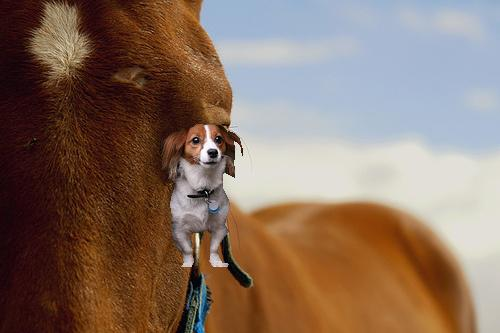tampered: (161, 125, 243, 267)
